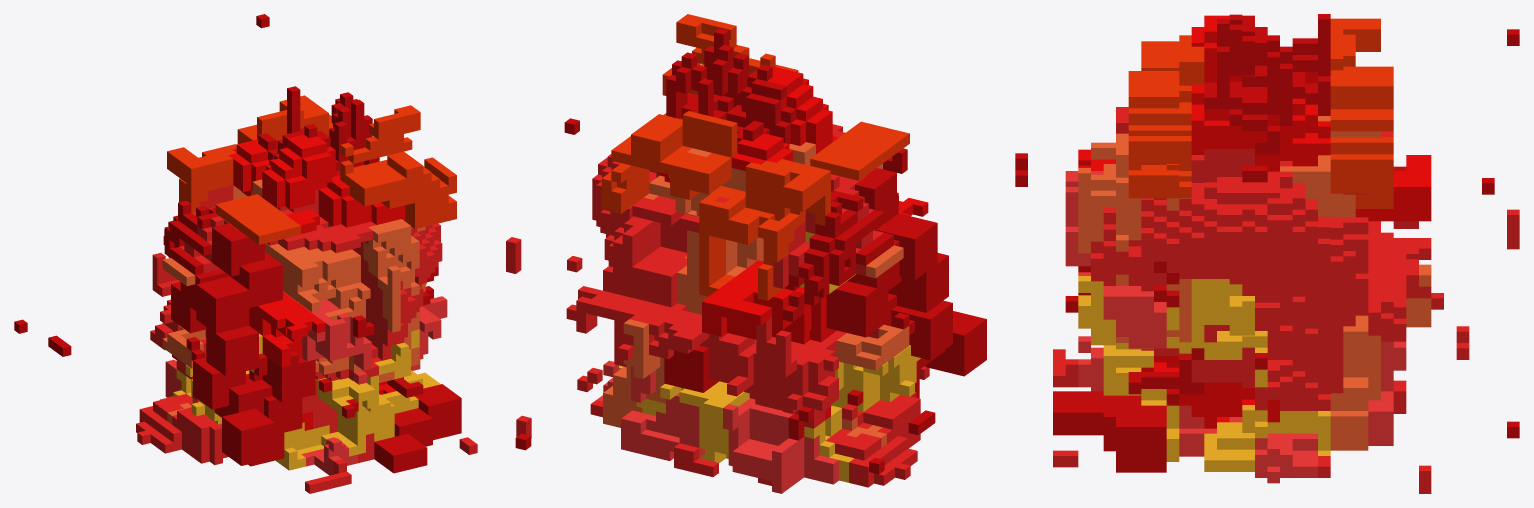
The model's file is boom.glb.
The picture shows the model from 3 angles, left to right: view 1: azimuth 30°, elevation 25°; view 2: azimuth 150°, elevation 25°; view 3: azimuth 270°, elevation 25°; orthographic projection. The views are drawn at different scales.
Bounding box in the file's own units: 4 × 3.6 × 4.
Materials: 1 (1 with a texture image).
